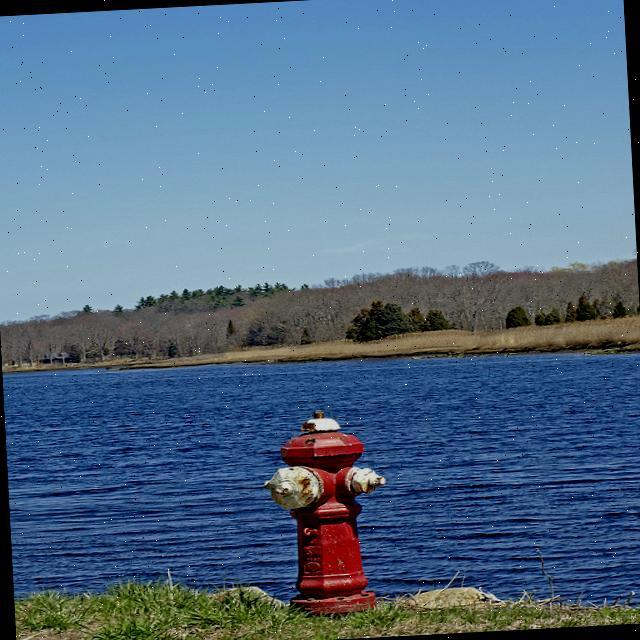fire_hydrant: (258, 406, 393, 621)
